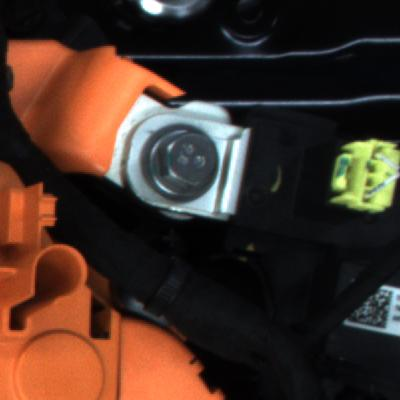nut_b: (142, 121, 226, 209)
